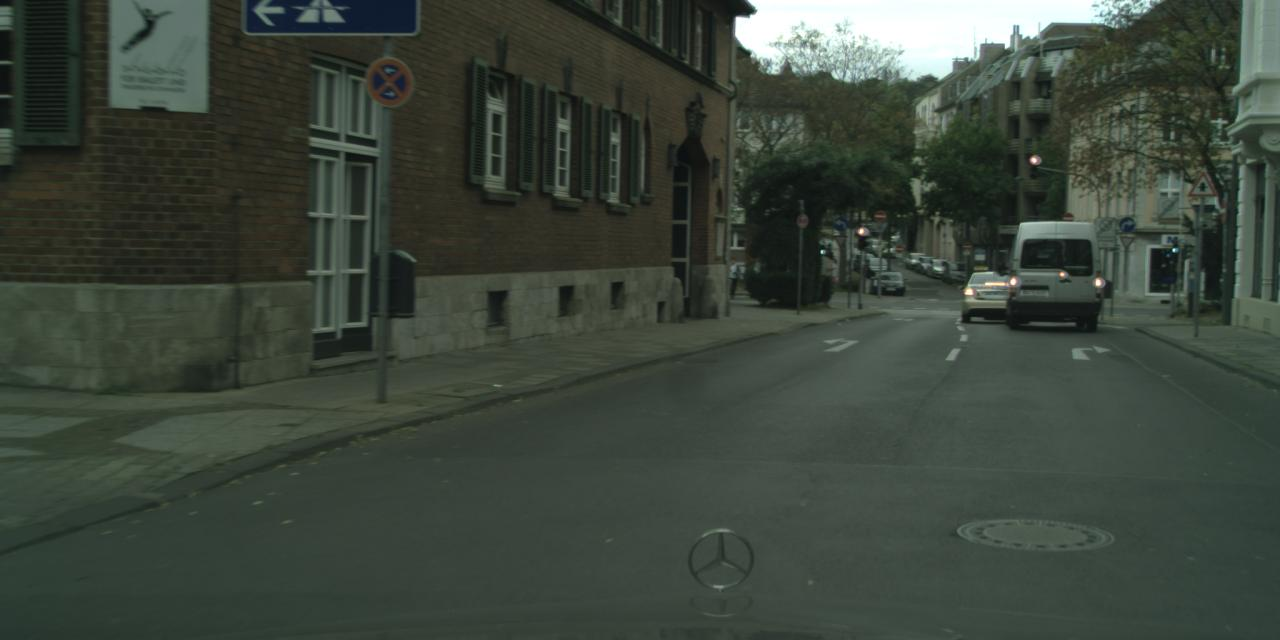ped: (722, 258, 739, 300)
